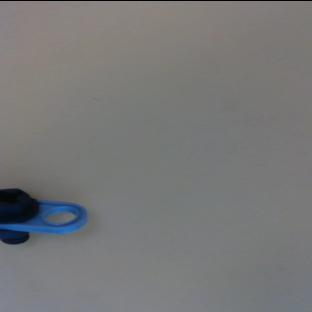part_1_good: (0, 187, 86, 243)
